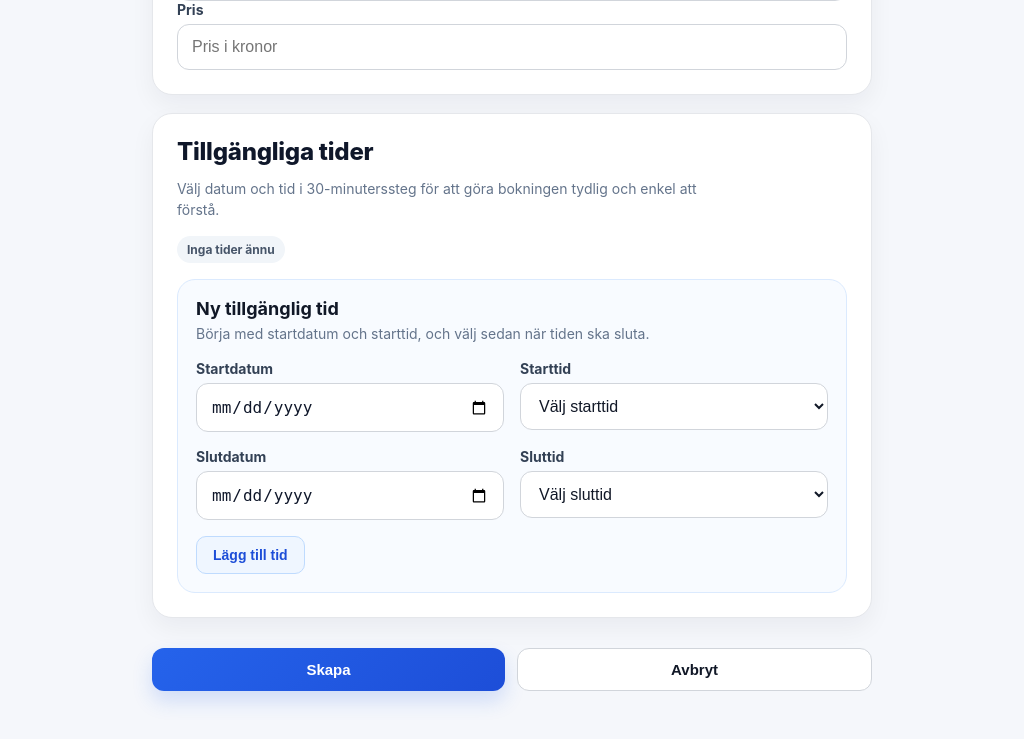
Test: CreateServicePage › hindrar tider som redan har passerat
The width and height of the screenshot is (1024, 739).
(page scrolled)
Step 1. Type "2020-05-01" into the date field labelled "Startdatum" → (350, 408), box [196, 383, 504, 432]
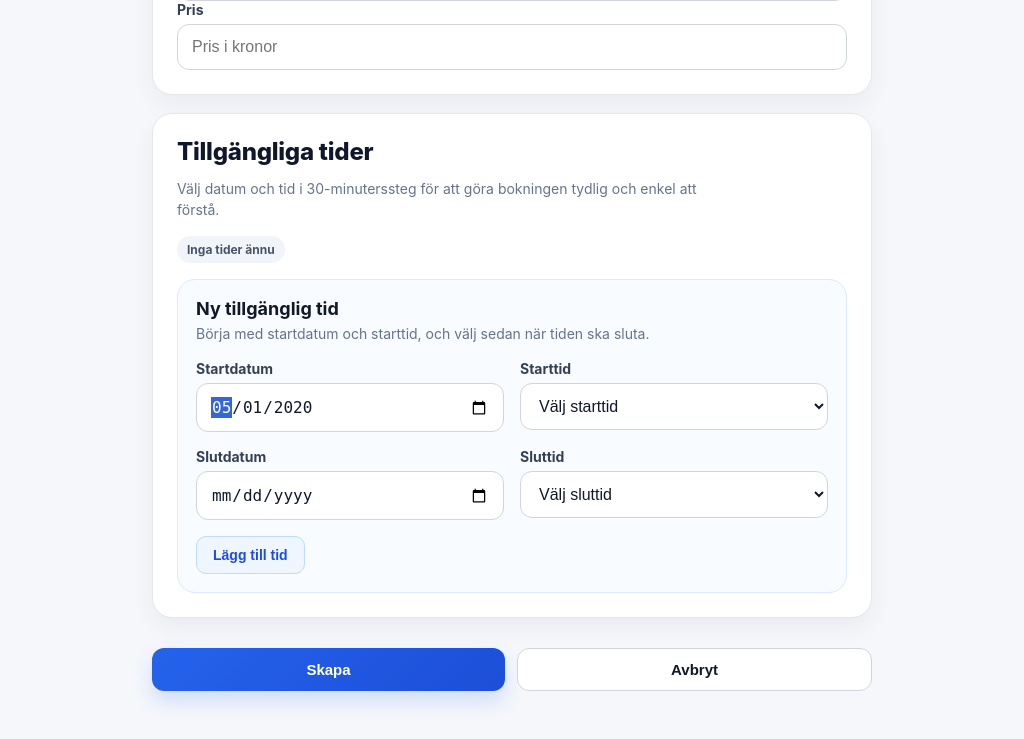
Step 2. Select "10:00" in the dropdown labelled "Starttid" → (674, 407), box [520, 383, 828, 430]
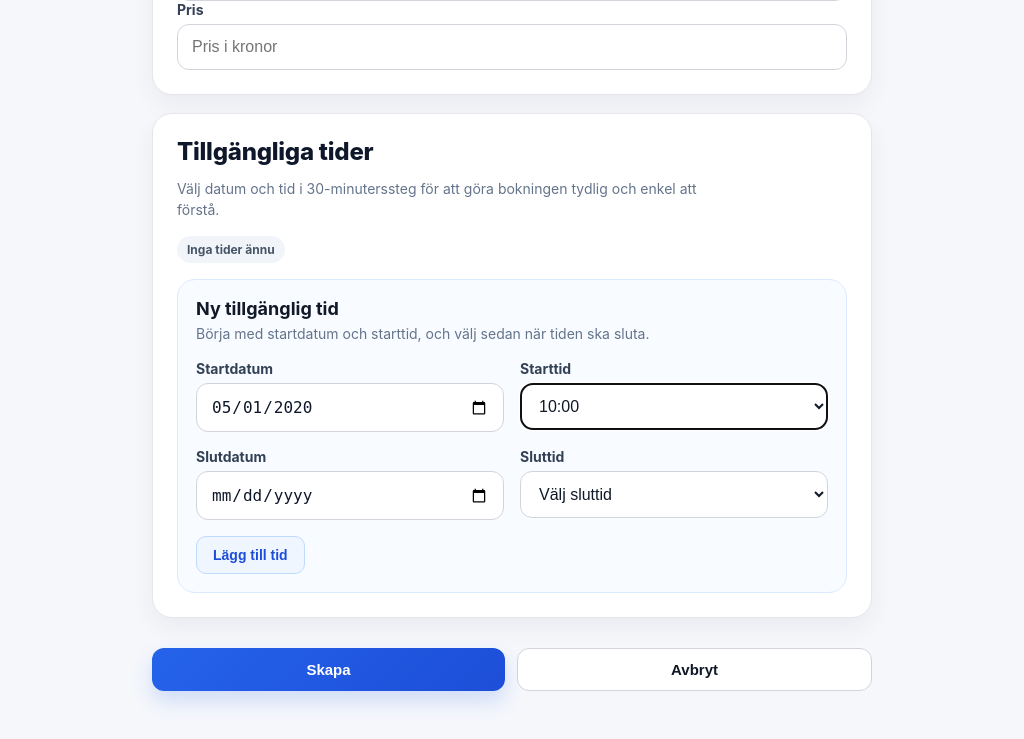
Step 3. Type "2020-05-01" into the date field labelled "Slutdatum" → (350, 496), box [196, 471, 504, 520]
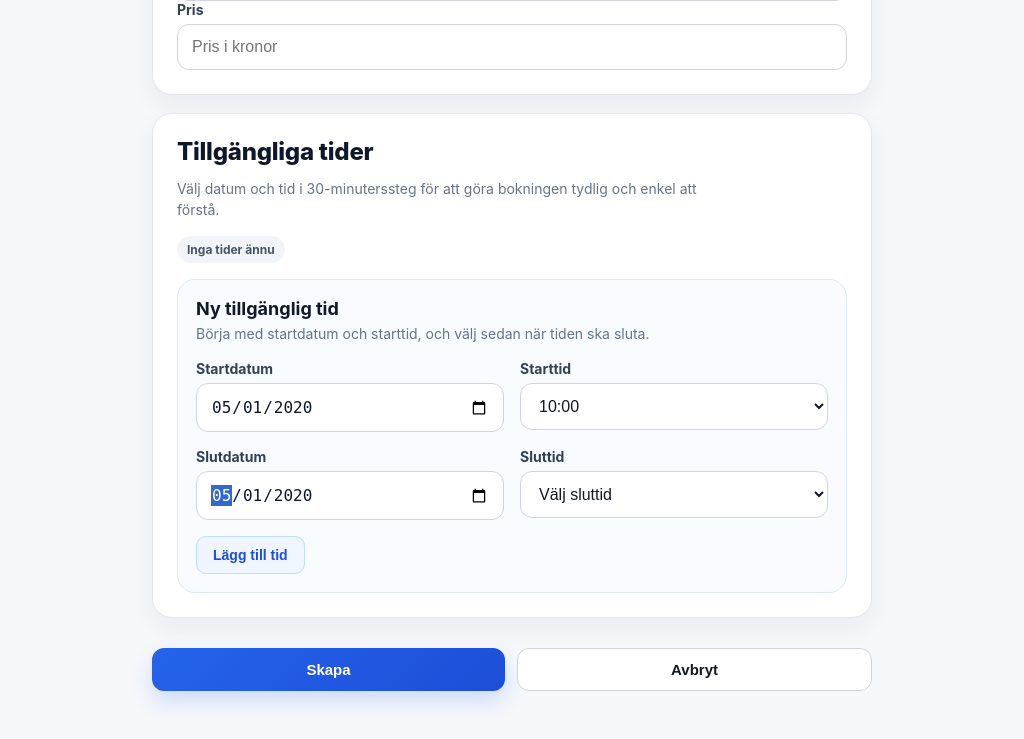
Step 4. Select "11:00" in the dropdown labelled "Sluttid" → (674, 495), box [520, 471, 828, 518]
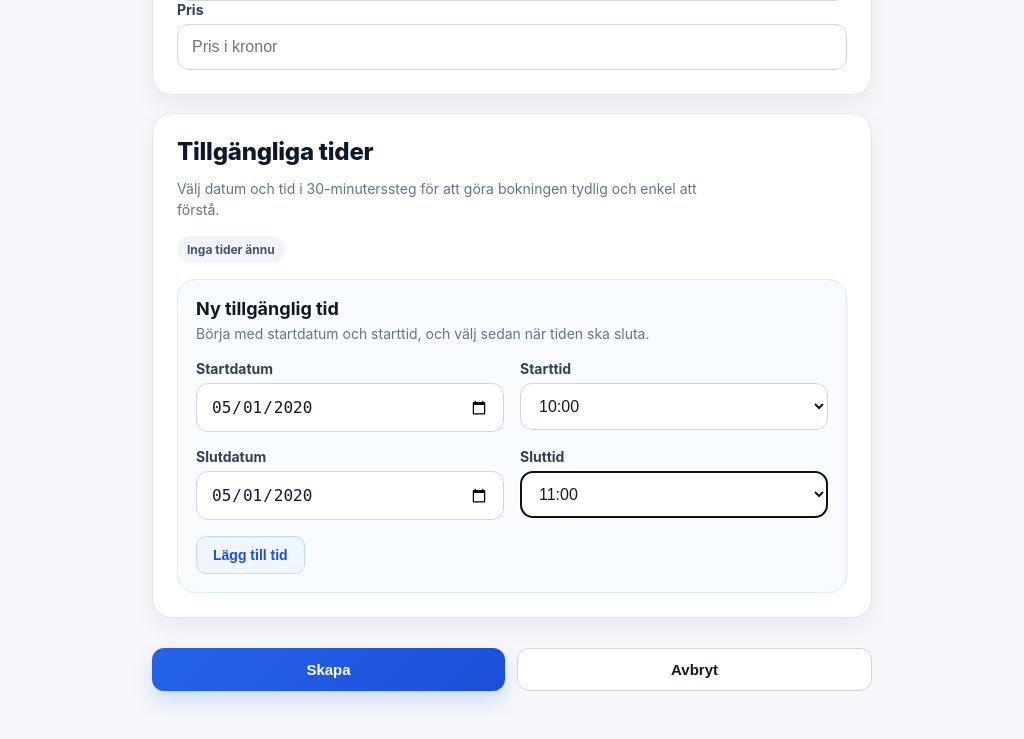
Step 5. Click the button "Lägg till tid" → (250, 555), box [196, 536, 305, 574]
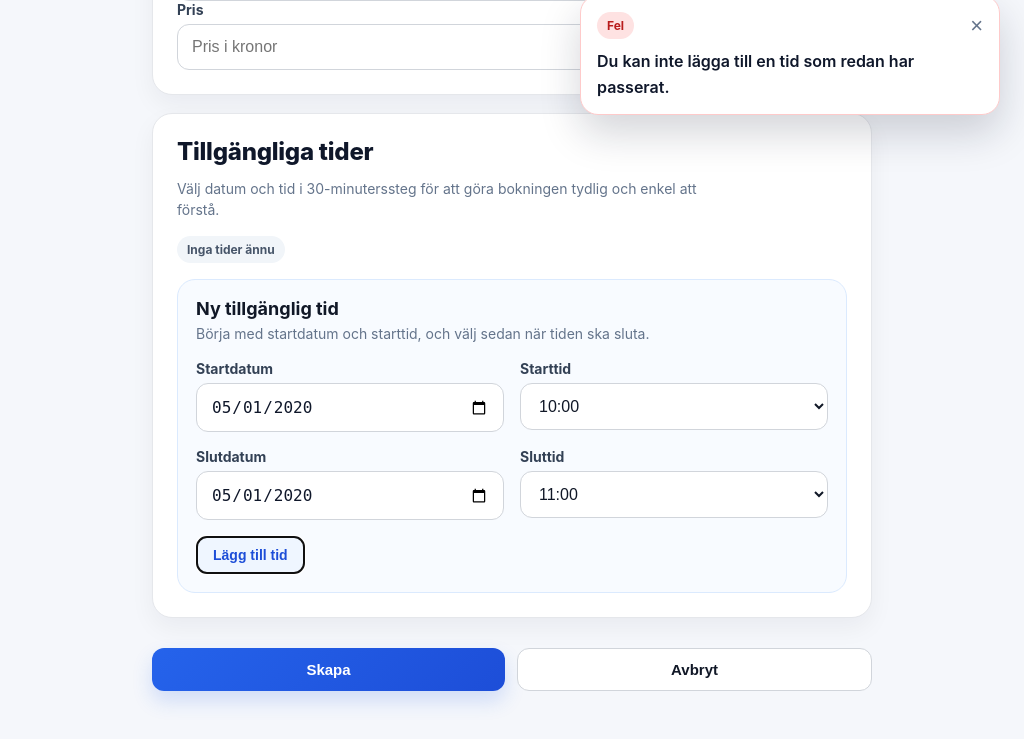
Expected: the text "Du kan inte lägga till en tid som redan har passerat." is shown, [597, 51, 914, 97]
